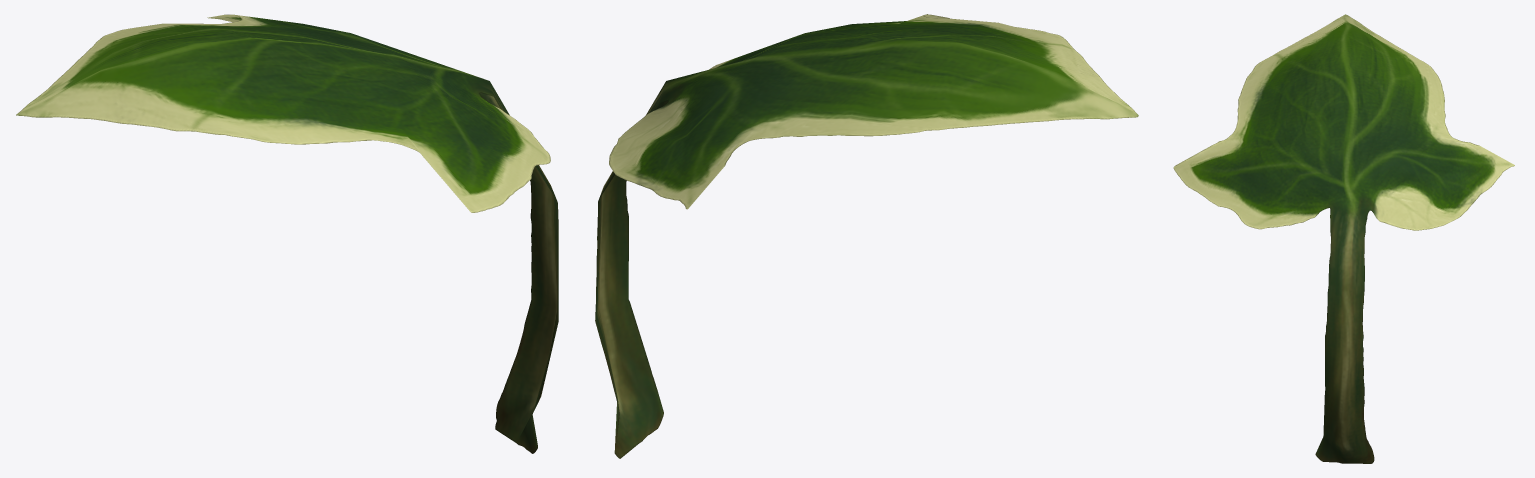
The picture shows the model from 3 angles, left to right: view 1: azimuth 30°, elevation 25°; view 2: azimuth 150°, elevation 25°; view 3: azimuth 270°, elevation 25°; orthographic projection. The views are drawn at different scales.
Visible parts, largest first — view 1: A1; view 2: A1; view 3: A1.
Boxes of the visible parts, bbox=[...] form: A1: bbox=[16, 14, 558, 453]; A1: bbox=[595, 14, 1138, 458]; A1: bbox=[1173, 14, 1514, 463].
Size of the model in its own units: 0.6534 by 0.5505 by 0.5642.
